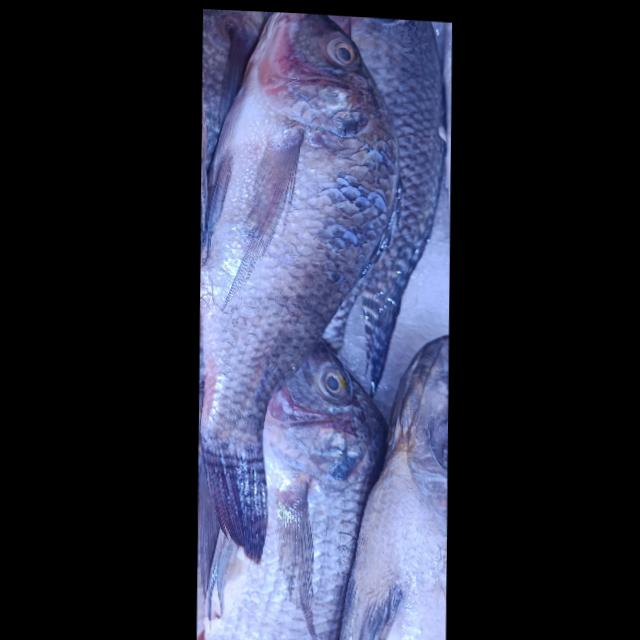Tilapia: (190, 8, 405, 575)
